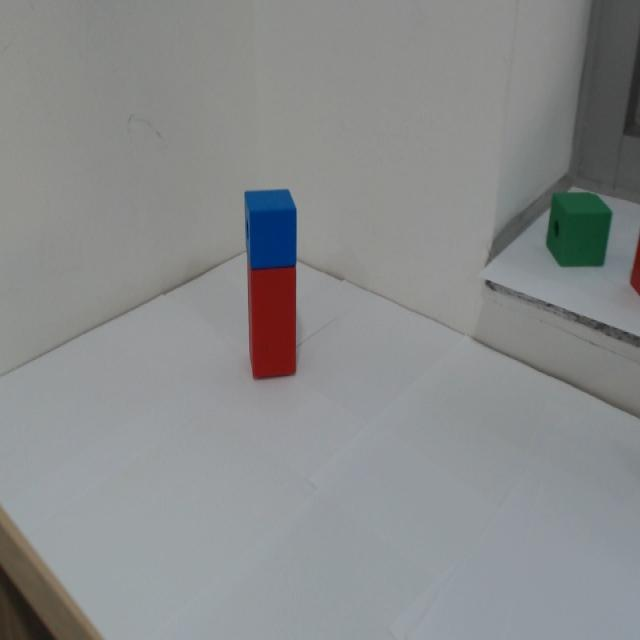cube: (240, 184, 308, 271)
